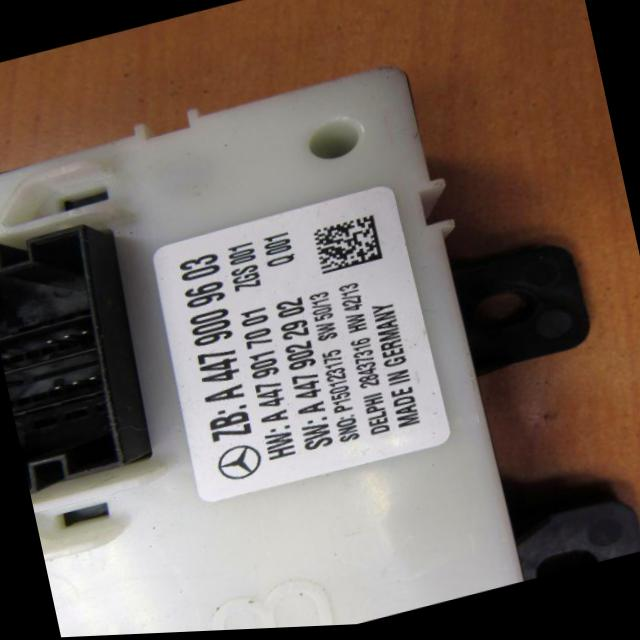datamatrix: (314, 218, 384, 277)
